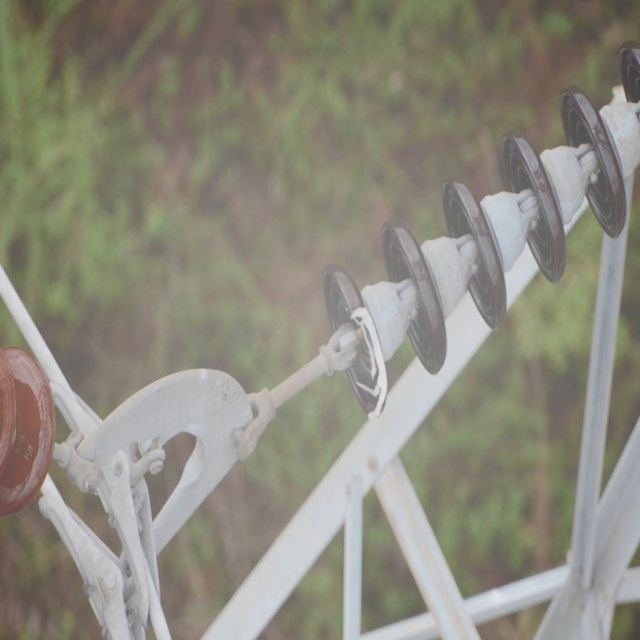broken: (349, 300, 386, 421)
insulator: (321, 38, 640, 421), (0, 347, 57, 521)
